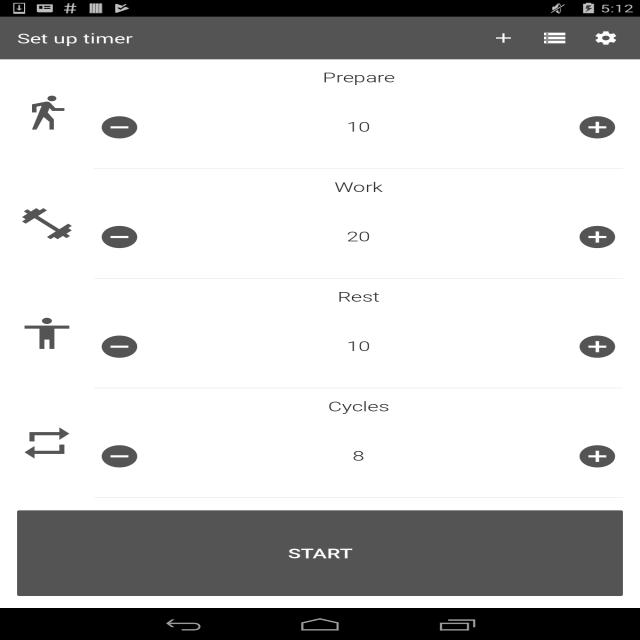Button: (13, 506, 627, 600)
EditText: (162, 195, 555, 279), (162, 86, 555, 169), (162, 305, 555, 388), (162, 415, 555, 498)
ImageButton: (94, 112, 145, 144), (572, 112, 623, 144), (94, 221, 145, 253), (572, 221, 623, 253), (94, 330, 145, 362), (572, 330, 623, 362), (94, 440, 145, 472), (572, 440, 623, 472)
ImageView: (0, 194, 77, 253), (0, 304, 77, 363), (0, 85, 77, 143), (0, 414, 77, 472)
TextView: (94, 70, 623, 86), (94, 289, 623, 305), (94, 399, 623, 415), (94, 180, 623, 195), (17, 29, 133, 47), (580, 22, 632, 54), (478, 22, 529, 54), (529, 22, 580, 54)
